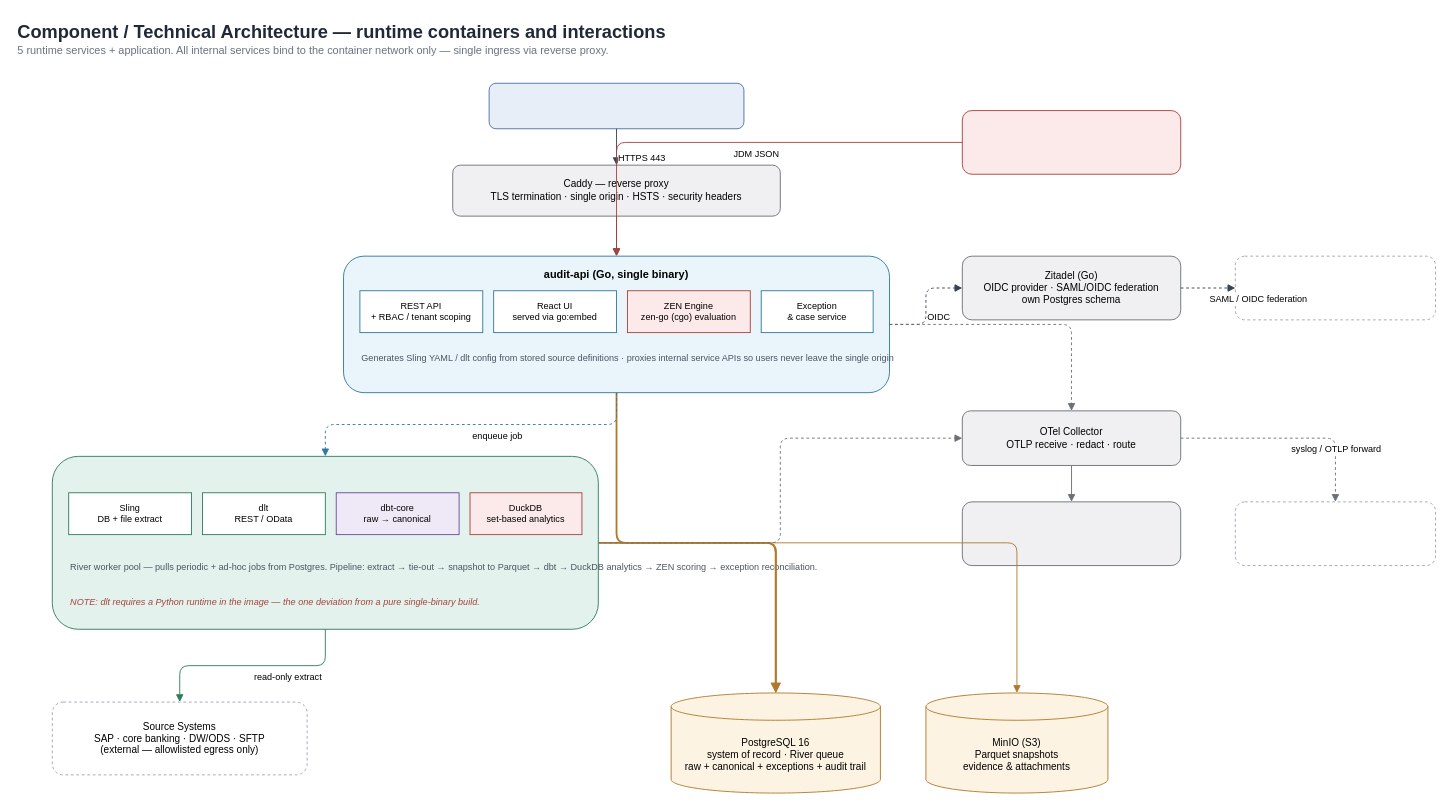
This 1451x809 diagram has some shape labels left out. The shapes that lost their labels are listed below. From the top down, each one's box as (x1, y1, x2, y2) in pixels, then its label:
(488, 82, 744, 129): Auditor / Manager Browser
(961, 110, 1181, 174): JDM Editor (React, MIT) embedded in Rule Catalog screen · emits JDM JSON
(1234, 255, 1436, 320): Client IdP Entra ID / Okta / ADFS (external — upstream federation)
(51, 455, 598, 629): audit-worker (same image, worker entrypoint · N replicas)
(961, 501, 1181, 566): OpenObserve logs + metrics + traces, single Go binary, built-in UI
(1234, 501, 1436, 566): Client SIEM Splunk / QRadar (external)
